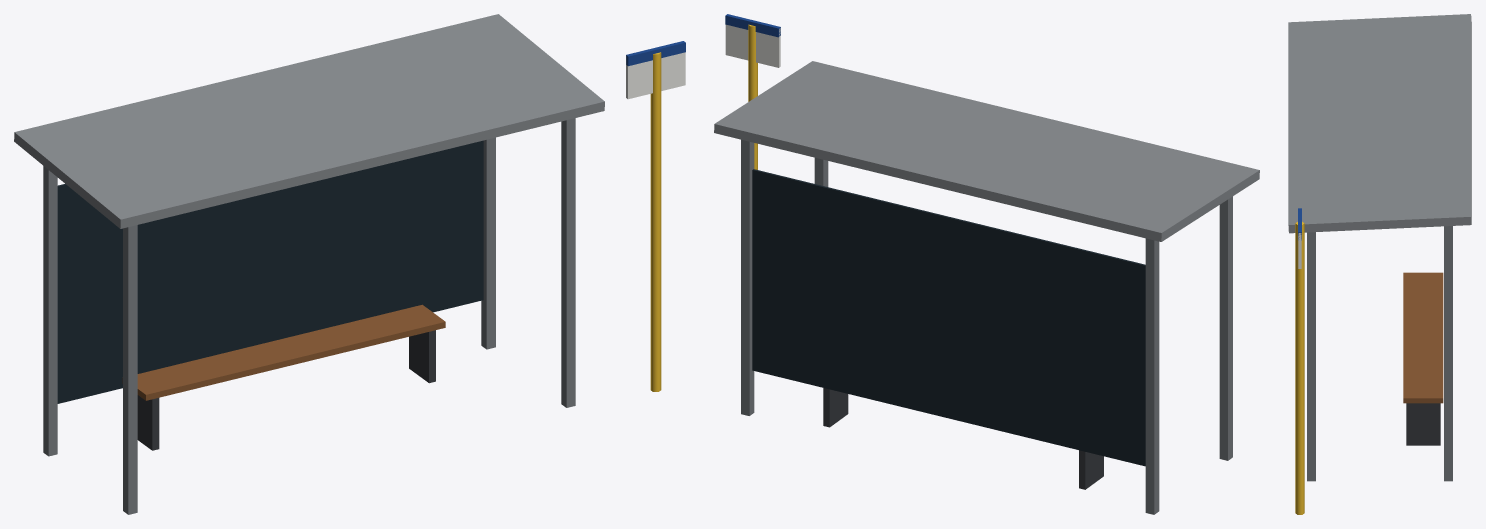
File: bus_stop.glb
3 views of the same model, side by side, from view 1: azimuth 30°, elevation 25°; view 2: azimuth 150°, elevation 25°; view 3: azimuth 270°, elevation 25° (orthographic). The views are drawn at different scales.
Visible parts, largest first — view 1: shelter; view 2: shelter; view 3: shelter.
Boxes of the visible parts, x1,y1,x2,y2 form: shelter: [14, 14, 685, 514]; shelter: [714, 14, 1259, 514]; shelter: [1288, 14, 1471, 514].
Size of the model in its own units: 4.95 by 2.83 by 1.6.
